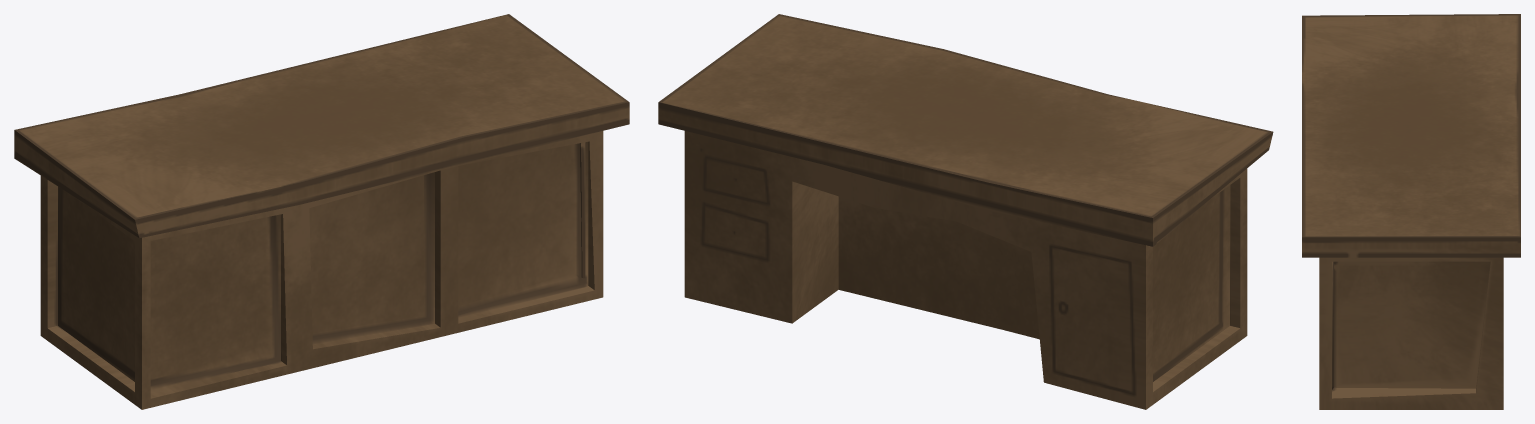
Rendered from desk.fbx.
3 views of the same model, side by side, from view 1: azimuth 30°, elevation 25°; view 2: azimuth 150°, elevation 25°; view 3: azimuth 270°, elevation 25° (orthographic). The views are drawn at different scales.
Visible parts, largest first — view 1: polySurface549; view 2: polySurface549; view 3: polySurface549.
Boxes of the visible parts, x1,y1,x2,y2 form: polySurface549: (14,14,629,409); polySurface549: (658,14,1273,409); polySurface549: (1302,14,1520,409).
Bounding box in the file's own units: 2.5 × 0.9865 × 1.05.
1 material, 1 textured.
